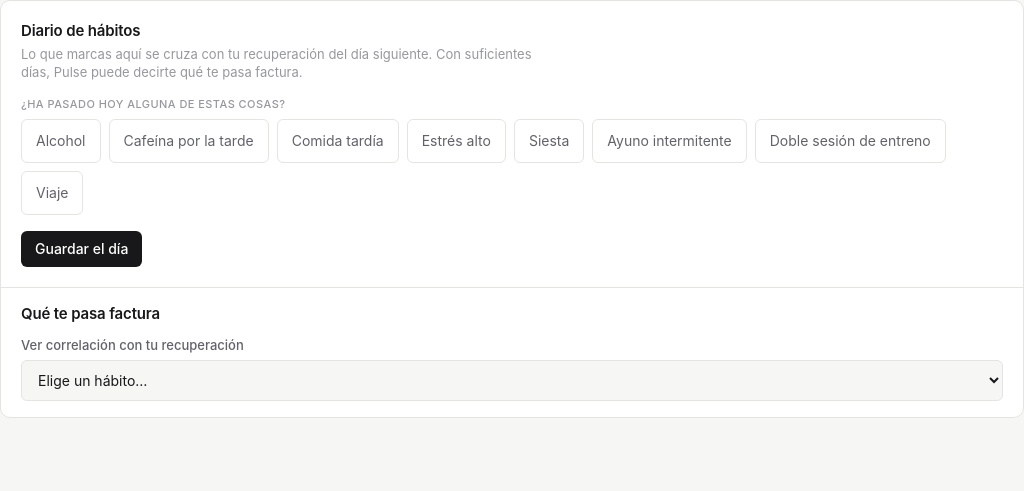
HabitJournalCard › no muestra correlación fabricada cuando datos_suficientes es false
Select "Alcohol" in the dropdown labelled "Ver correlación con tu recuperación". click: (512, 380)
box: [21,360,1003,401]
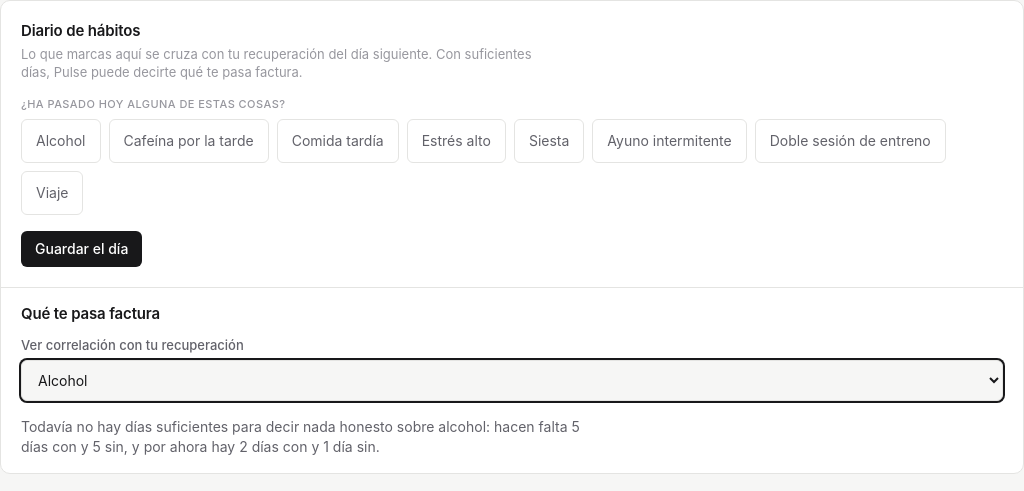
Check: the text "Todavía no hay días suficientes" is shown, box [21,418,434,435]
Check: the text "2 días con y 1 día sin" is shown, box [21,417,595,457]
